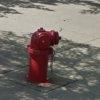a fire hydrant: (27, 28, 61, 83)
